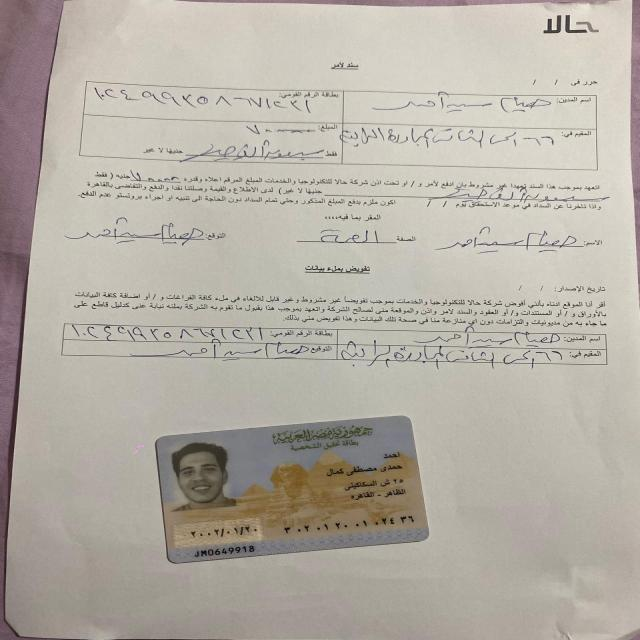id_card: (151, 411, 436, 569)
